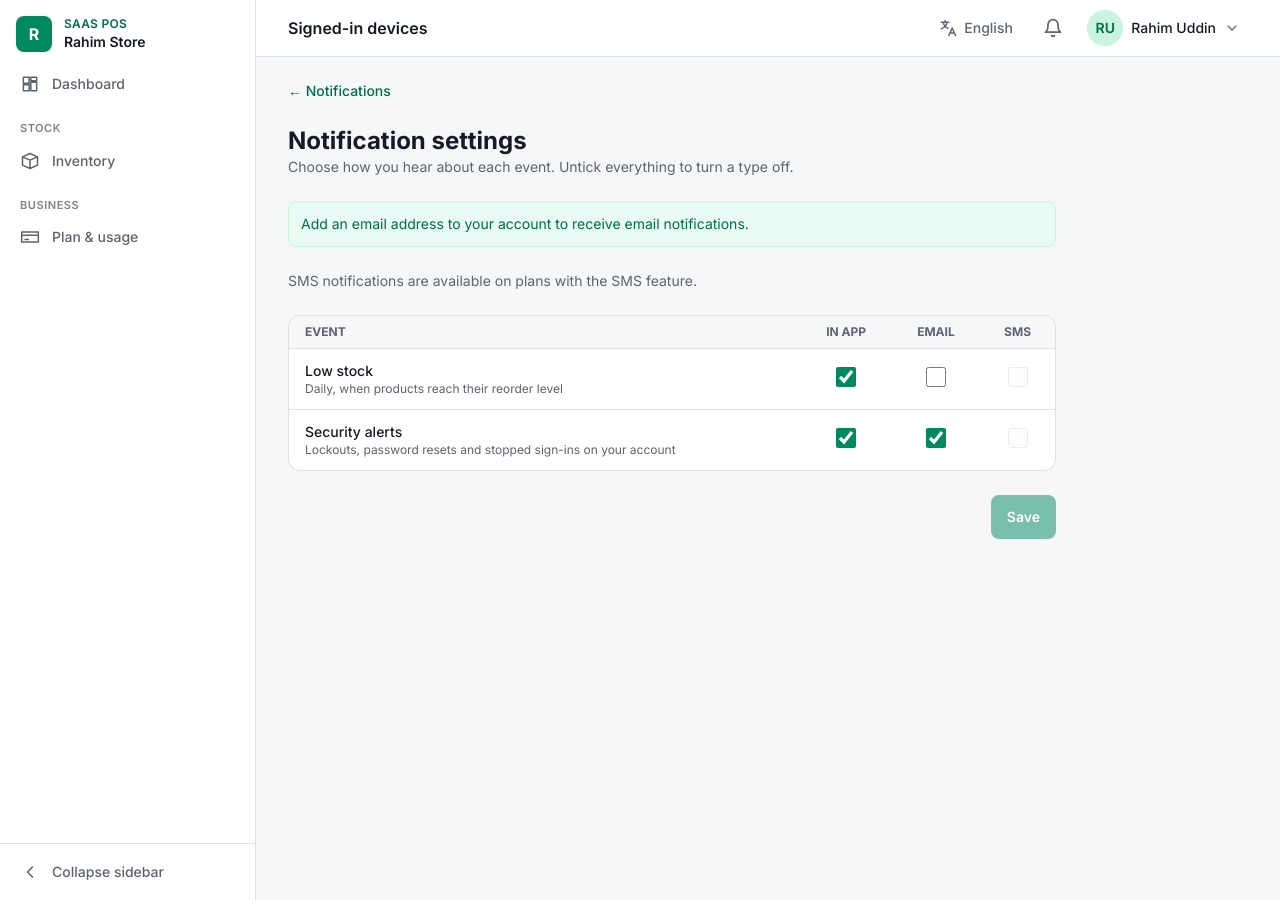
Scenario: notifications › saves only the changed channel choices
Expected: the text "SMS notifications are available on plans" is shown, [288,272,697,289]
Click the checkbox named "Email for Low stock" at [936, 376], box [926,366,946,386]
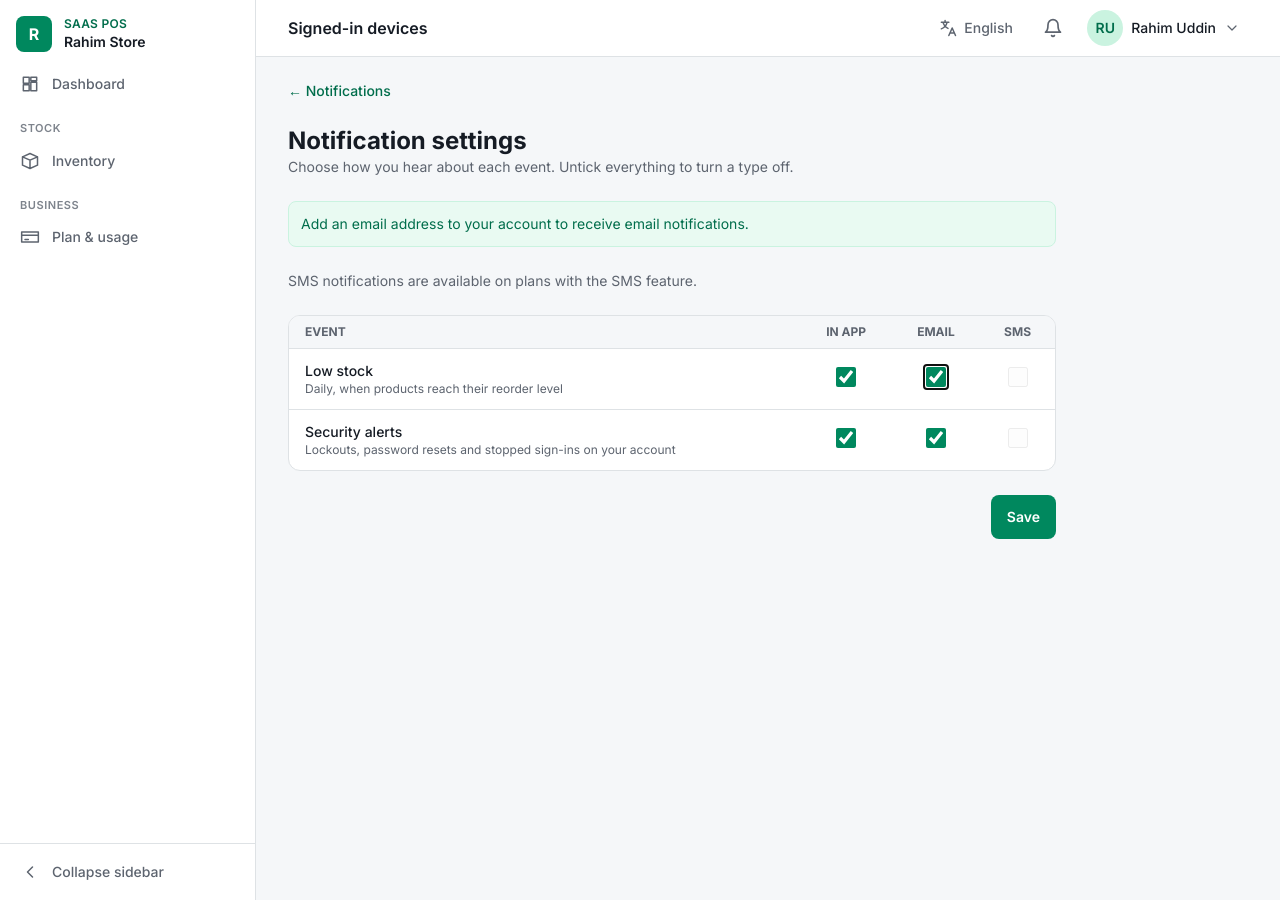
Click the button "Save" at [1023, 517], box [991,495,1056,539]
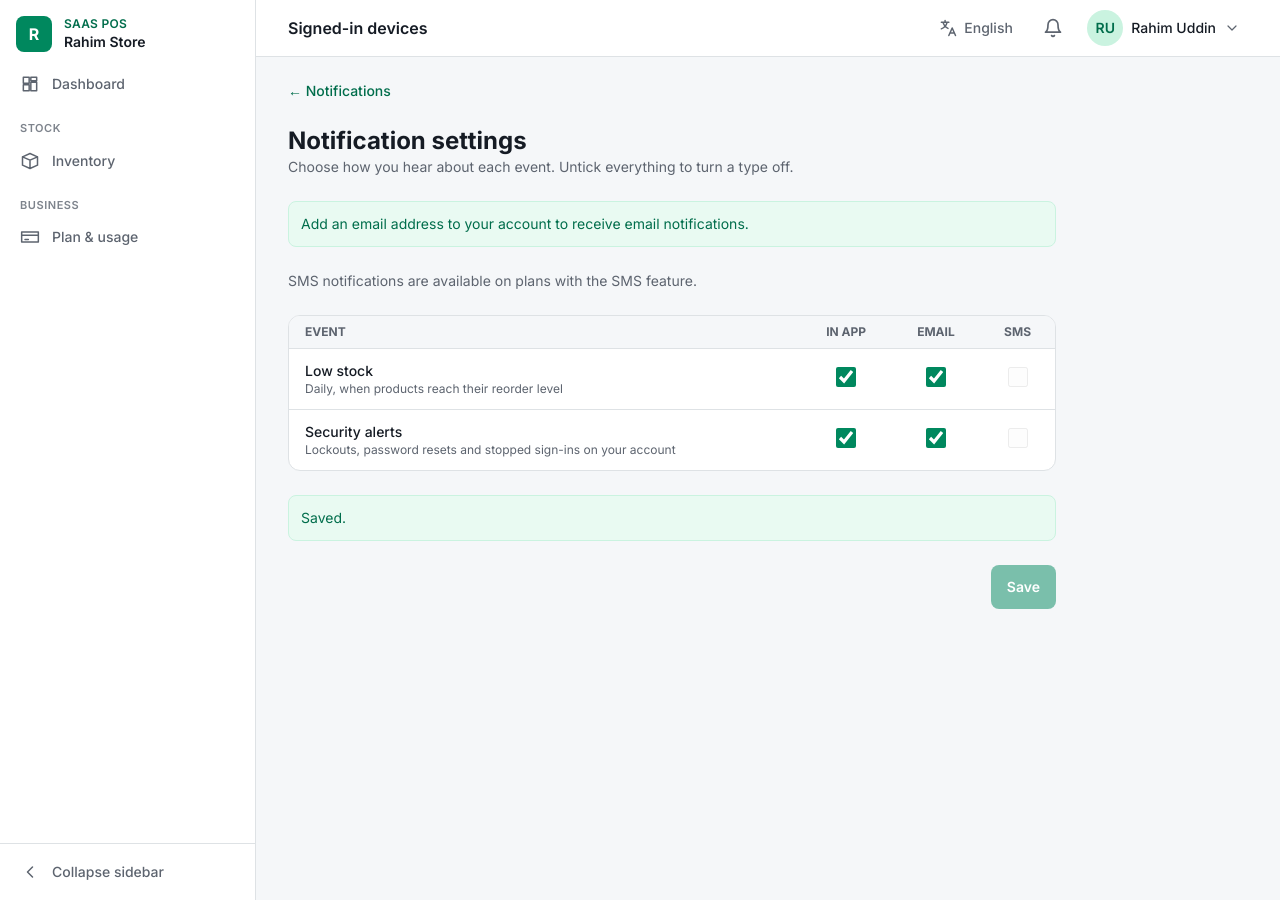
Expected: the text "Saved." is shown, [288,495,1056,541]
